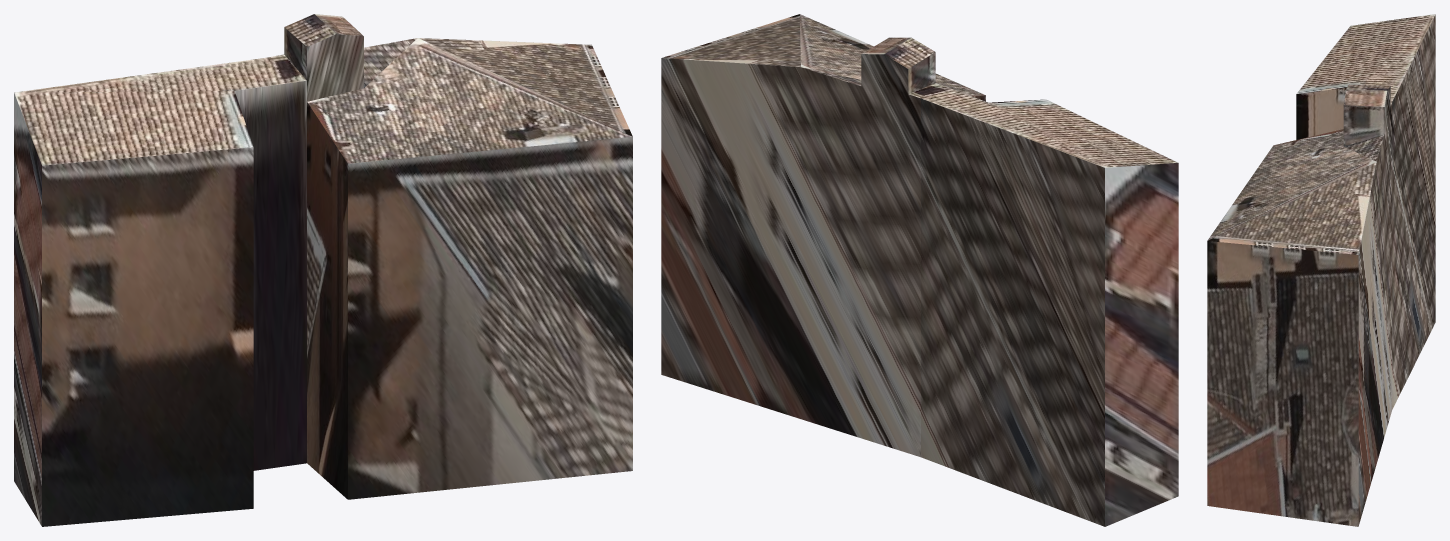
The picture shows the model from 3 angles, left to right: view 1: azimuth 30°, elevation 25°; view 2: azimuth 150°, elevation 25°; view 3: azimuth 270°, elevation 25°; orthographic projection. The views are drawn at different scales.
Visible parts, largest first — view 1: Z_UP; view 2: Z_UP; view 3: Z_UP.
Part boxes in pixels (bbox=[...]): Z_UP: bbox=[14, 14, 632, 526]; Z_UP: bbox=[661, 14, 1178, 526]; Z_UP: bbox=[1207, 14, 1435, 526].
Bounding box in the file's own units: 23.85 × 17.41 × 10.73.
2 materials, 1 textured.
